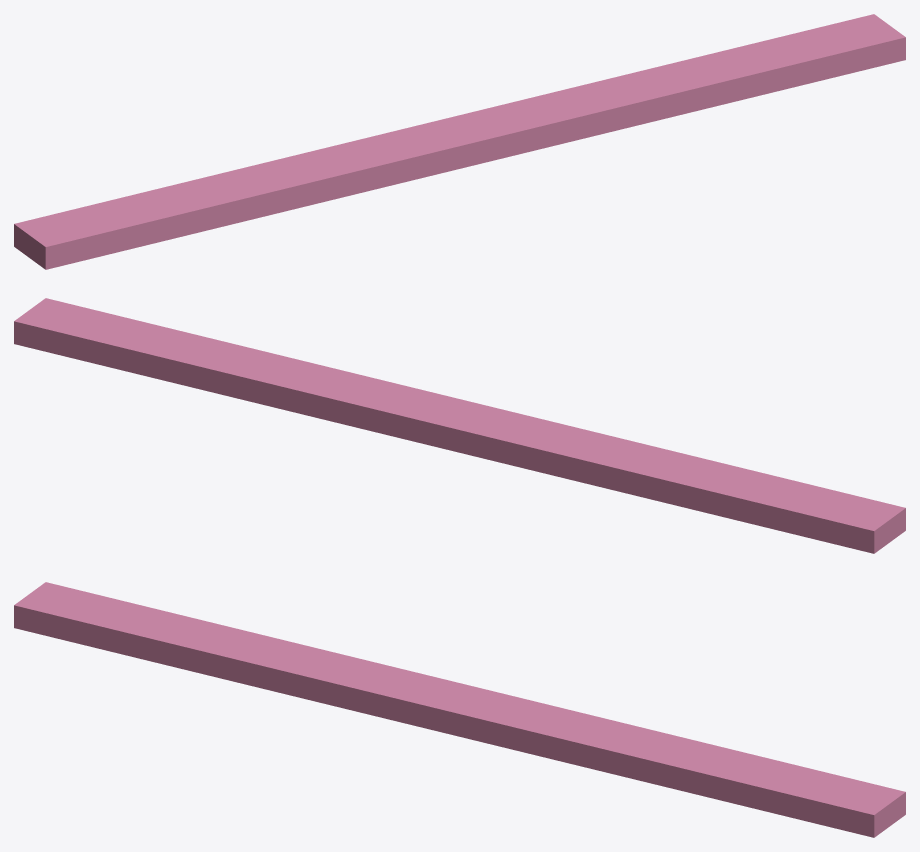
File: curb_straight_16m.dae
3 views of the same model, one above another, from view 1: azimuth 30°, elevation 25°; view 2: azimuth 150°, elevation 25°; view 3: azimuth 330°, elevation 25° (orthographic).
Parts seen in each view (by area): view 1: Untitled; view 2: Untitled; view 3: Untitled.
Boxes of the visible parts, <box> form: Untitled: <box>14,14,905,269</box>; Untitled: <box>14,298,905,553</box>; Untitled: <box>14,582,905,837</box>.
Bounding box in the file's own units: 16.14 × 1.03 × 0.4075.
